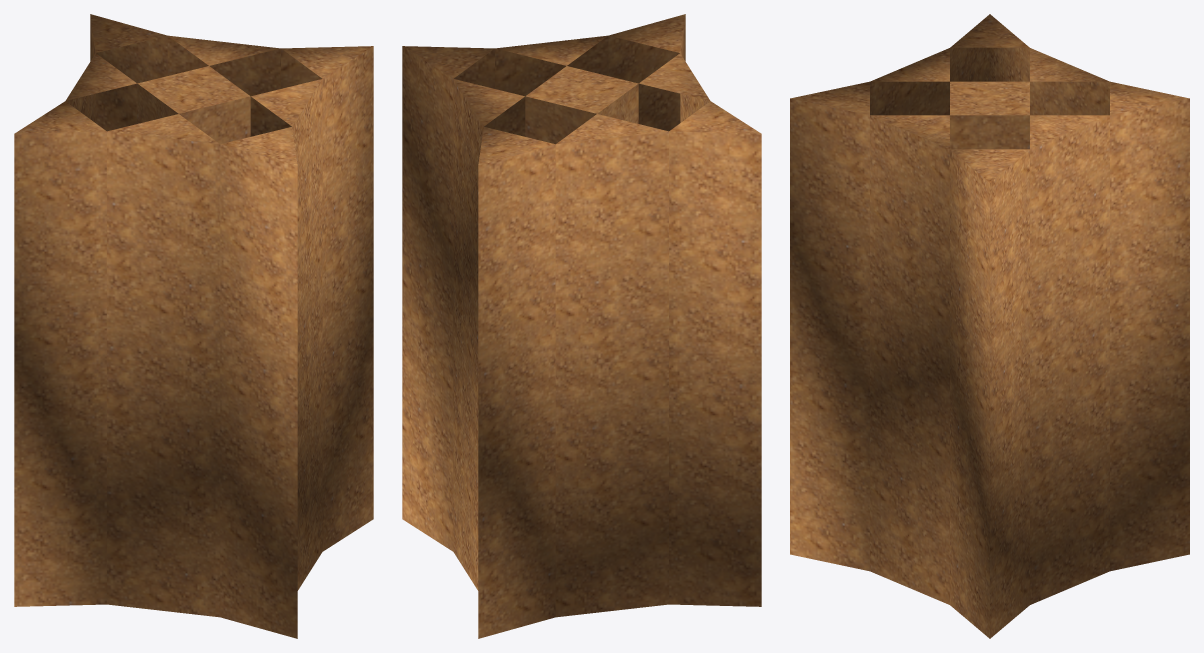
The model's file is dirt.fbx.
3 renders of one model, left to right at view 1: azimuth 30°, elevation 25°; view 2: azimuth 150°, elevation 25°; view 3: azimuth 270°, elevation 25°, orthographic. The views are drawn at different scales.
Visible parts, largest first — view 1: Cube.002, Cube.005, Cube.003, Cube.004, Cube.001, Cube, Cube.011, Cube.012, Cube.013; view 2: Cube.013, Cube.005, Cube.011, Cube.004, Cube.012, Cube, Cube.003, Cube.001, Cube.002; view 3: Cube.001, Cube.012, Cube.003, Cube.011, Cube.004, Cube, Cube.002, Cube.013, Cube.005.
Boxes of the visible parts, <box> form: Cube.002: <box>107,114,220,617</box>; Cube.005: <box>14,101,106,606</box>; Cube.003: <box>220,127,297,638</box>; Cube.004: <box>281,46,373,551</box>; Cube.001: <box>251,79,322,590</box>; Cube: <box>137,66,250,144</box>; Cube.011: <box>90,14,167,131</box>; Cube.012: <box>167,35,280,136</box>; Cube.013: <box>65,53,136,122</box>; Cube.013: <box>555,114,668,617</box>; Cube.005: <box>669,101,761,606</box>; Cube.011: <box>478,127,555,638</box>; Cube.004: <box>402,46,494,551</box>; Cube.012: <box>453,79,524,590</box>; Cube: <box>525,66,638,144</box>; Cube.003: <box>608,14,685,131</box>; Cube.001: <box>495,35,608,136</box>; Cube.002: <box>639,53,710,122</box>; Cube.001: <box>870,115,949,604</box>; Cube.012: <box>1030,115,1109,604</box>; Cube.003: <box>790,81,869,571</box>; Cube.011: <box>1110,81,1189,571</box>; Cube.004: <box>950,149,1029,638</box>; Cube: <box>950,81,1029,149</box>; Cube.002: <box>870,48,949,115</box>; Cube.013: <box>1030,48,1109,115</box>; Cube.005: <box>950,14,1029,81</box>.
Size of the model in its own units: 500 by 629 by 500.
